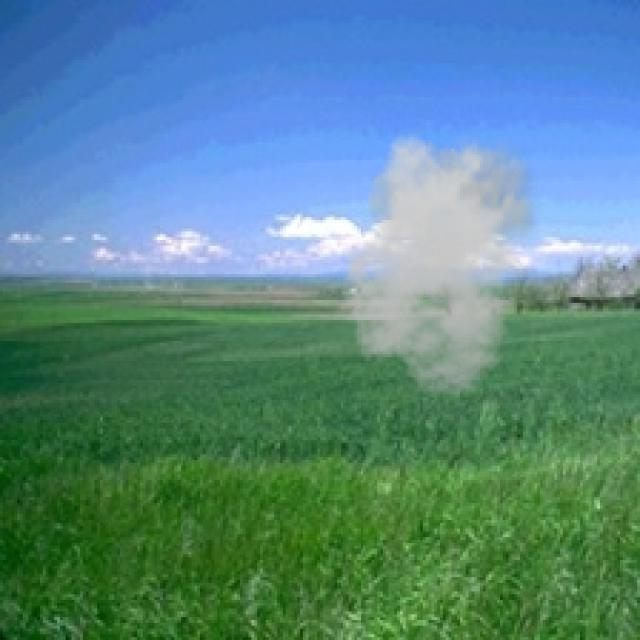Smoke: (337, 126, 543, 397)
